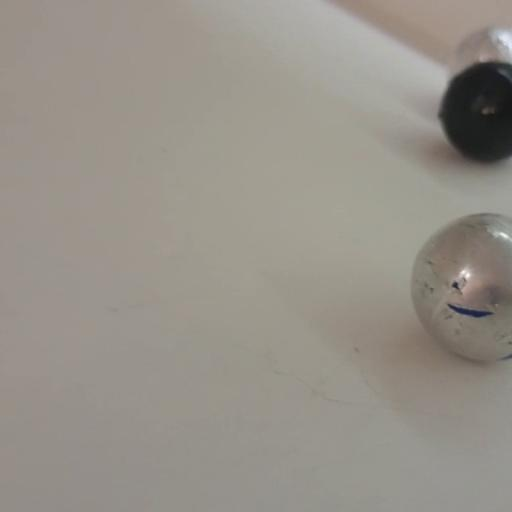alive: (409, 213, 510, 364), (451, 26, 509, 78)
dead: (438, 62, 511, 162)
